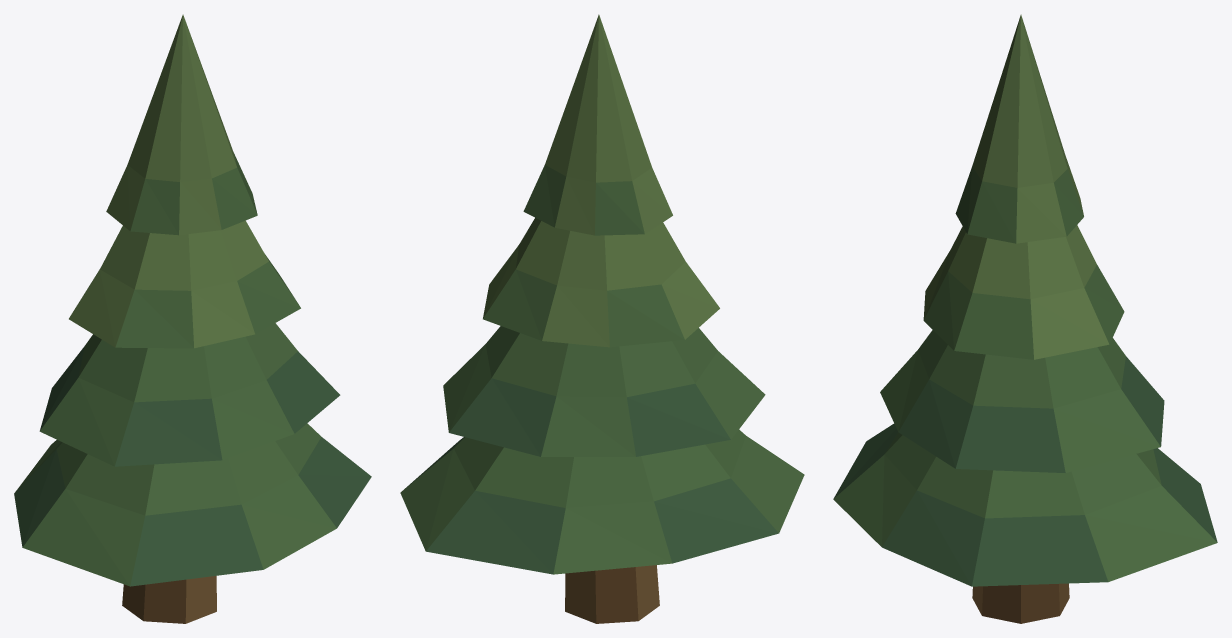
The model's file is pine-young.glb.
The picture shows the model from 3 angles, left to right: view 1: azimuth 30°, elevation 25°; view 2: azimuth 150°, elevation 25°; view 3: azimuth 270°, elevation 25°; orthographic projection.
Parts seen in each view (by area): view 1: pine-young; view 2: pine-young; view 3: pine-young.
Part boxes in pixels (x1,y1,x2,y2): pine-young: [14, 14, 371, 623]; pine-young: [400, 14, 804, 623]; pine-young: [833, 14, 1217, 623].
Size of the model in its own units: 0.7071 by 1.18 by 0.6942.
